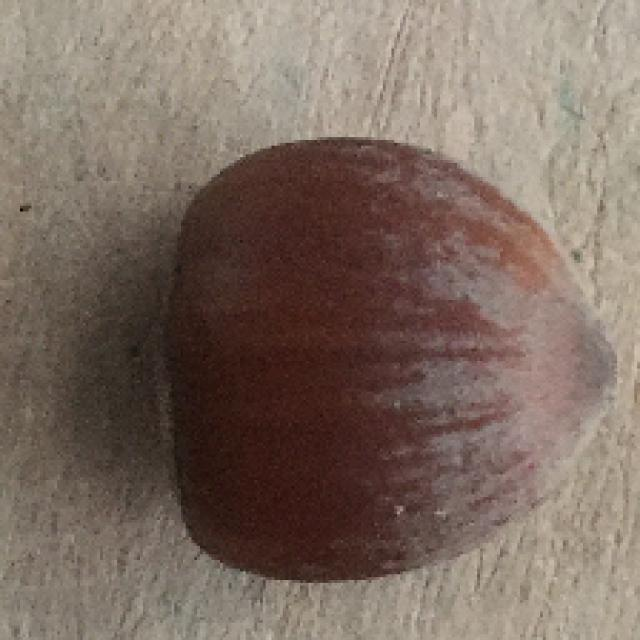qualityHazelnut: (130, 124, 618, 586)
